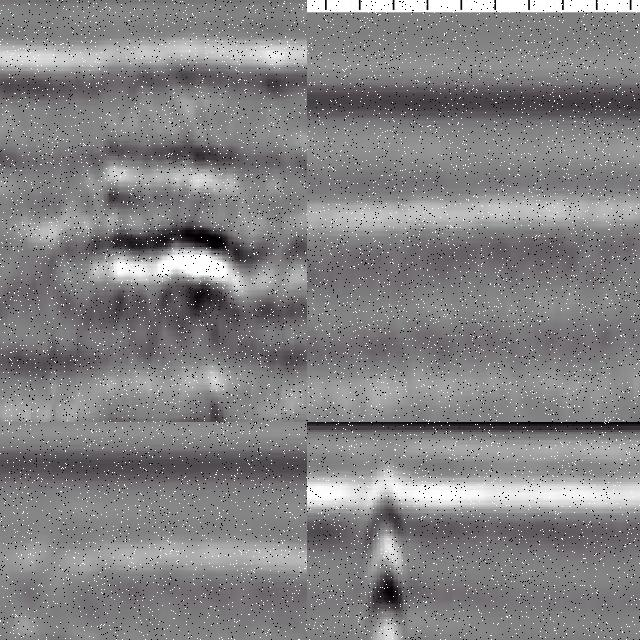crack: (368, 458, 400, 640)
loose: (81, 117, 297, 337)
